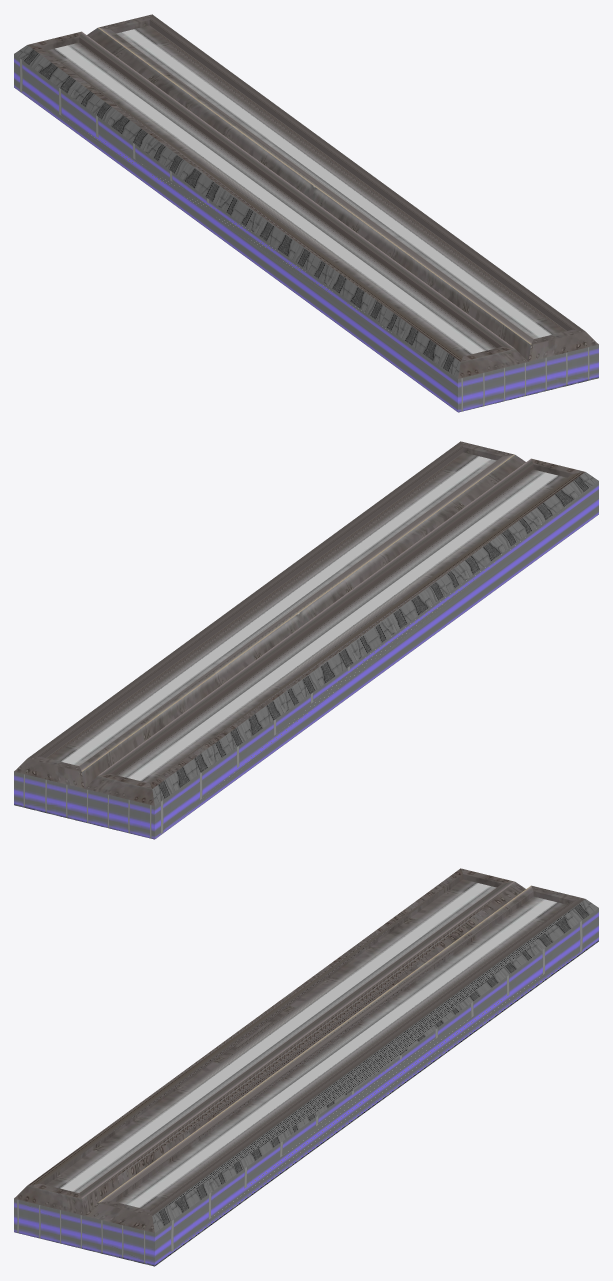
The model's file is pm-floor-beam.glb.
3 views of the same model, one above another, from view 1: azimuth 30°, elevation 25°; view 2: azimuth 150°, elevation 25°; view 3: azimuth 330°, elevation 25° (orthographic).
Visible parts, largest first — view 1: Floor_Beam; view 2: Floor_Beam; view 3: Floor_Beam.
Part boxes in pixels (box(x1,y1,x2,y2)): Floor_Beam: box(14, 14, 598, 412); Floor_Beam: box(14, 441, 598, 839); Floor_Beam: box(14, 868, 598, 1266).
Size of the model in its own units: 0.7635 by 0.2311 by 4.17.
1 material, 1 textured.
